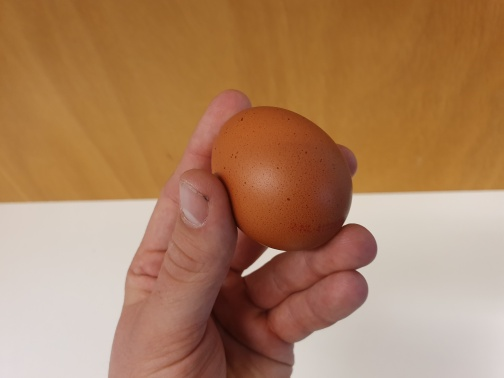egg: (212, 105, 354, 252)
